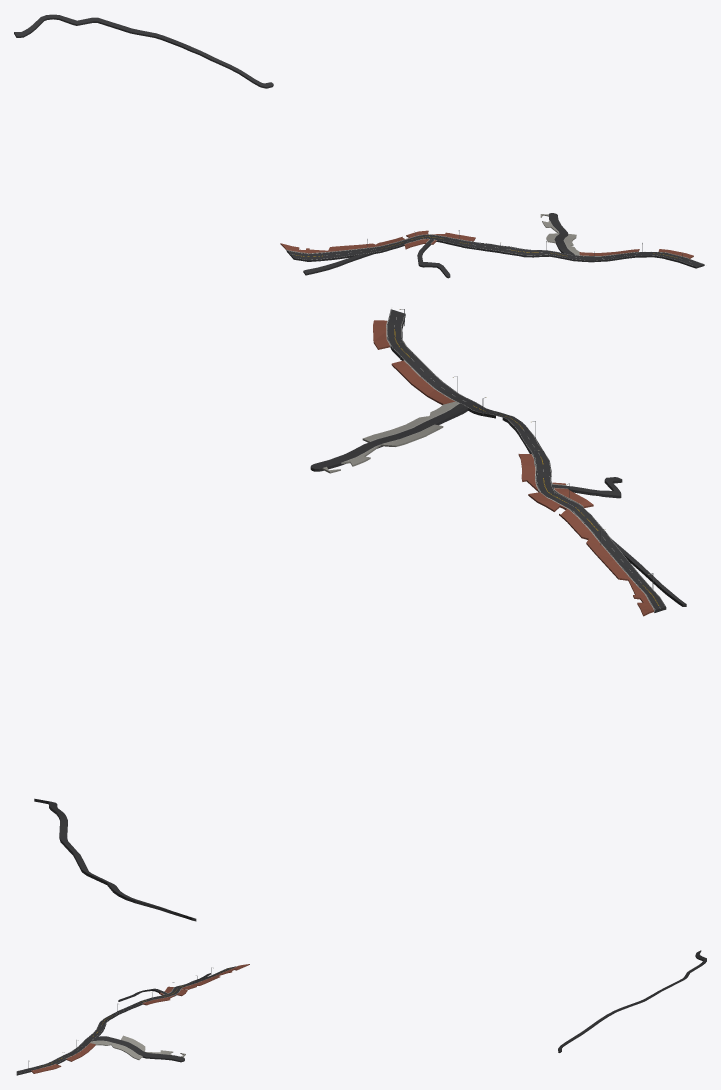
The picture shows the model from 3 angles, top to bottom: view 1: azimuth 30°, elevation 25°; view 2: azimuth 150°, elevation 25°; view 3: azimuth 270°, elevation 25°; orthographic projection. The views are drawn at different scales.
Bounding box in the file's own units: 225 × 33.77 × 554.
